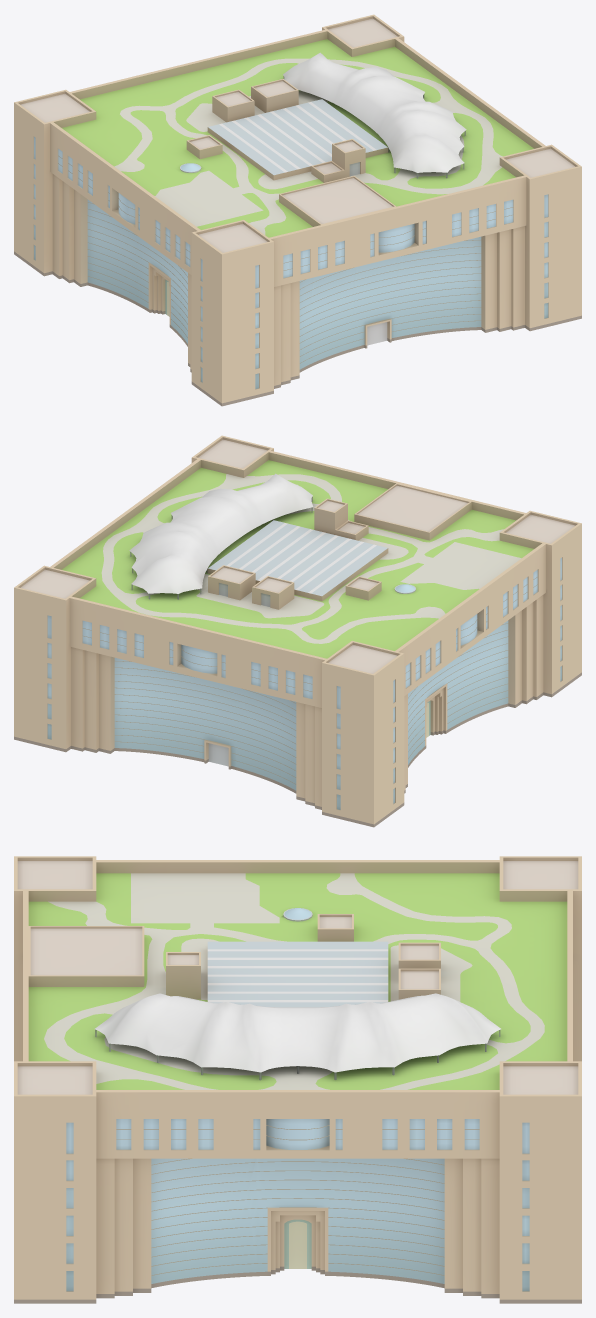
File: KSA-21.glb
The picture shows the model from 3 angles, top to bottom: view 1: azimuth 30°, elevation 25°; view 2: azimuth 150°, elevation 25°; view 3: azimuth 270°, elevation 25°; orthographic projection. The views are drawn at different scales.
Visible parts, largest first — view 1: momra; view 2: momra; view 3: momra.
Part boxes in pixels (x1=…): momra: x1=14, y1=14, x2=581, y2=406; momra: x1=14, y1=435, x2=581, y2=827; momra: x1=14, y1=856, x2=581, y2=1303.
Bounding box in the file's own units: 62 × 28.62 × 62.
1 material, 1 textured.
